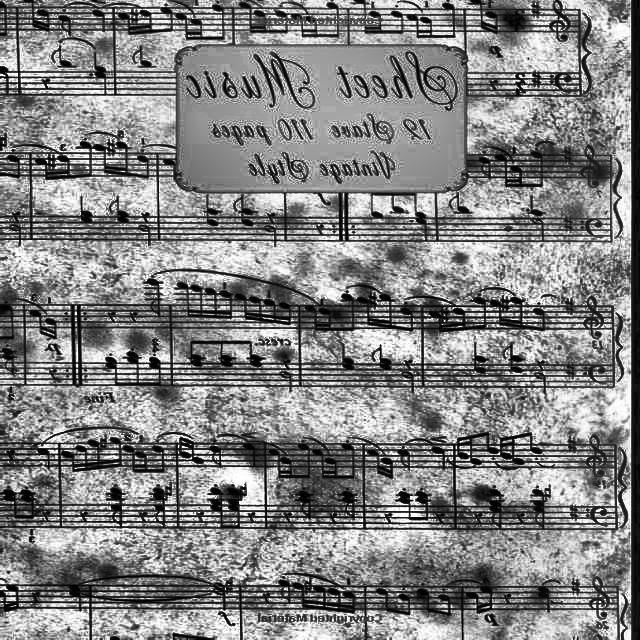Bass-clef: (580, 362, 608, 386), (548, 70, 572, 94), (580, 217, 604, 239), (585, 505, 607, 527)
Diez: (530, 66, 542, 90), (562, 145, 574, 167), (128, 7, 142, 25), (562, 214, 574, 234), (564, 296, 576, 316), (568, 576, 580, 596), (46, 152, 58, 172), (530, 1, 542, 20), (566, 435, 578, 453), (500, 294, 512, 312), (565, 360, 575, 380), (569, 503, 579, 521), (367, 292, 378, 308), (440, 306, 450, 322), (106, 138, 114, 156)
Eighth-note: (144, 278, 164, 318), (339, 440, 357, 480), (439, 2, 457, 40), (208, 3, 226, 41), (372, 586, 396, 614), (470, 296, 488, 332), (76, 140, 92, 180), (340, 294, 356, 334), (326, 1, 342, 39), (296, 442, 312, 480), (1, 303, 16, 342), (50, 44, 74, 68), (404, 192, 426, 218), (418, 588, 438, 616), (369, 190, 387, 220), (130, 45, 154, 67), (382, 191, 406, 213), (103, 364, 125, 388), (143, 364, 165, 388), (2, 494, 22, 520), (530, 151, 544, 187), (274, 580, 292, 608), (470, 1, 486, 32), (126, 357, 142, 388), (107, 195, 129, 217), (241, 339, 263, 361), (150, 445, 166, 475), (208, 506, 228, 530), (398, 498, 418, 522), (392, 592, 412, 616), (233, 194, 254, 216), (501, 342, 523, 363), (448, 194, 470, 214), (188, 339, 208, 361), (371, 345, 393, 365), (479, 431, 499, 453), (476, 156, 494, 180), (134, 156, 152, 180), (525, 432, 543, 456), (530, 506, 548, 530), (390, 9, 406, 35), (274, 9, 290, 35), (398, 307, 414, 333), (20, 495, 36, 521), (153, 502, 169, 528), (297, 496, 313, 522), (414, 498, 431, 522), (6, 154, 22, 178), (208, 444, 224, 468), (110, 504, 126, 528), (226, 506, 242, 530), (490, 506, 506, 530), (218, 339, 235, 361), (160, 6, 173, 34), (532, 307, 546, 333), (1, 354, 17, 376), (341, 497, 357, 519), (398, 448, 412, 472), (0, 0, 8, 40), (439, 595, 453, 617), (59, 14, 72, 36)
Eighth-rest: (138, 210, 154, 224), (266, 210, 278, 226), (40, 76, 52, 92), (194, 508, 206, 524), (534, 358, 546, 372), (402, 358, 414, 372), (262, 591, 274, 605), (30, 589, 42, 603), (282, 511, 294, 524), (105, 310, 116, 324), (487, 78, 499, 90), (46, 368, 58, 380), (434, 512, 446, 524), (472, 512, 484, 524), (515, 512, 527, 524), (129, 310, 139, 324), (6, 447, 16, 461), (382, 512, 393, 524), (138, 511, 148, 524), (315, 224, 325, 236), (281, 358, 291, 370), (11, 210, 21, 222), (41, 510, 51, 522), (328, 512, 338, 524), (503, 592, 513, 604), (247, 511, 257, 522), (80, 511, 88, 524)
Half-note: (530, 216, 546, 244), (261, 225, 279, 248), (399, 372, 416, 396), (532, 373, 550, 395), (275, 371, 293, 392), (6, 224, 24, 244), (138, 224, 152, 244), (214, 589, 226, 611)
Quarter-note: (91, 9, 107, 35), (414, 216, 430, 242), (528, 194, 544, 218), (340, 342, 356, 366), (241, 442, 257, 466), (34, 448, 52, 468), (535, 592, 553, 612), (430, 446, 446, 468), (94, 72, 108, 96), (68, 592, 84, 612), (205, 194, 219, 216), (92, 52, 106, 72), (474, 342, 486, 362), (80, 197, 92, 216), (207, 214, 217, 226), (244, 216, 252, 226)
Sixteenth-note: (176, 280, 192, 320), (353, 0, 371, 34), (494, 152, 511, 188), (377, 293, 393, 329), (238, 1, 254, 35), (190, 284, 206, 318), (357, 297, 375, 327), (116, 12, 138, 36), (108, 436, 124, 469), (464, 590, 486, 614), (508, 296, 524, 328), (234, 292, 250, 324), (202, 287, 218, 319), (466, 434, 482, 466), (60, 451, 82, 474), (293, 582, 311, 610), (22, 0, 38, 30), (218, 289, 234, 319), (508, 435, 524, 465), (266, 448, 282, 478), (122, 444, 138, 474), (93, 143, 107, 177), (489, 298, 506, 326), (115, 141, 128, 177), (290, 12, 306, 40), (138, 8, 154, 36), (56, 154, 72, 182), (28, 310, 44, 338), (312, 447, 326, 479), (406, 13, 422, 39), (368, 11, 384, 37), (428, 310, 444, 336), (304, 304, 320, 330), (262, 298, 278, 324), (497, 436, 513, 462), (367, 449, 383, 475), (188, 439, 204, 465), (176, 13, 190, 42), (480, 586, 494, 614), (482, 10, 498, 34), (418, 16, 434, 40), (188, 17, 204, 41), (508, 164, 524, 188), (88, 440, 100, 472), (324, 456, 340, 479), (454, 436, 470, 459), (37, 8, 51, 34), (249, 295, 263, 321), (303, 16, 319, 38), (43, 317, 59, 339), (36, 159, 52, 181), (253, 10, 267, 34), (452, 308, 466, 332), (278, 300, 292, 324), (76, 445, 88, 473), (343, 590, 357, 614), (314, 584, 326, 612), (10, 583, 22, 611), (136, 451, 150, 474), (320, 307, 332, 333), (282, 456, 294, 480), (329, 588, 341, 612), (382, 457, 394, 479), (178, 436, 190, 458), (0, 589, 8, 614)
Treble-clef: (584, 433, 608, 479), (581, 144, 605, 188), (548, 0, 572, 42), (589, 575, 611, 619), (583, 296, 603, 340)
